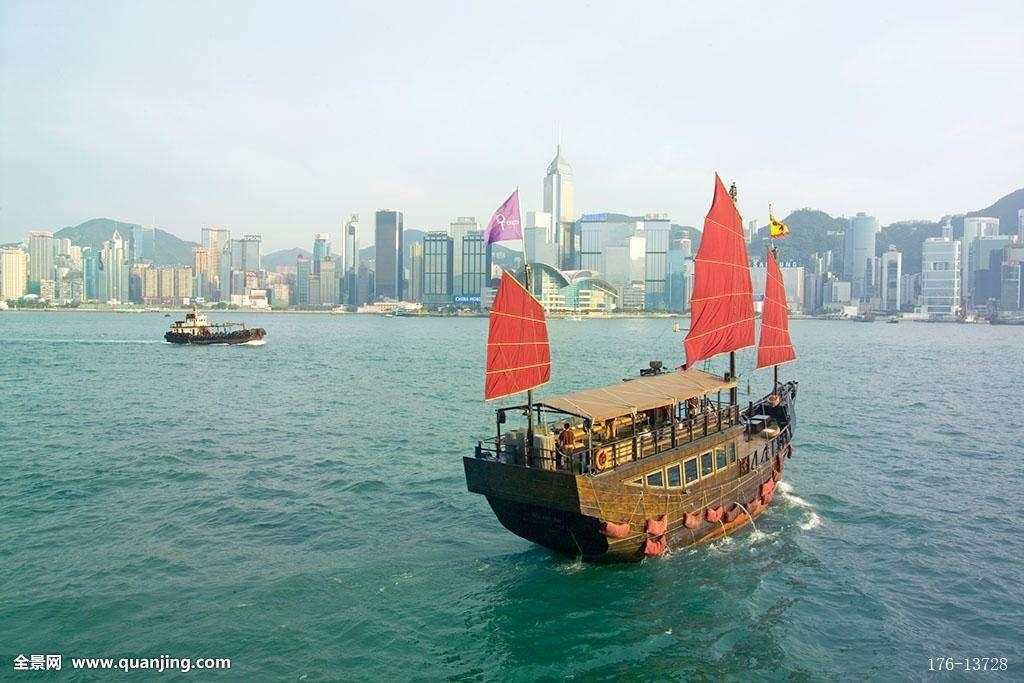fanchuan: (456, 169, 828, 562)
otherboat: (160, 299, 271, 348)
